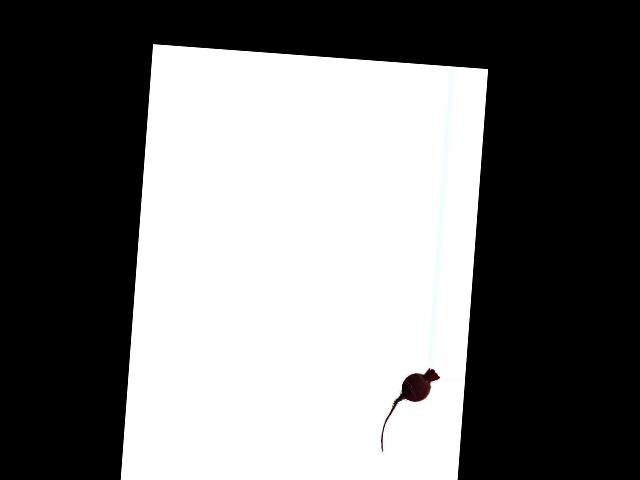beet: (379, 365, 440, 456)
